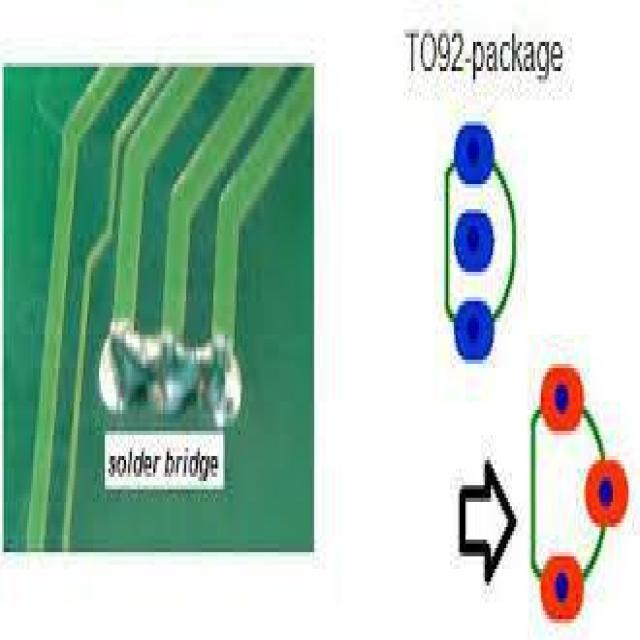Short_circuit: (97, 293, 239, 427)
